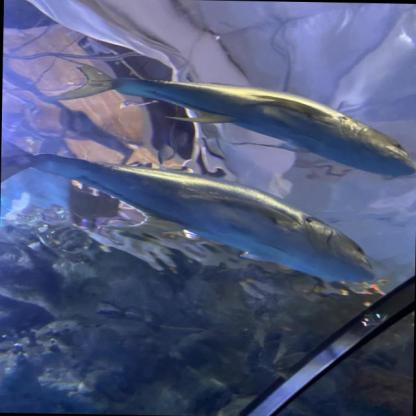fish: (0, 137, 381, 293), (51, 67, 416, 177)
